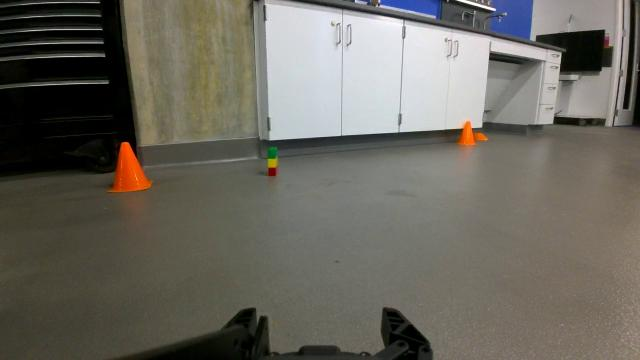lego: (262, 141, 282, 181)
